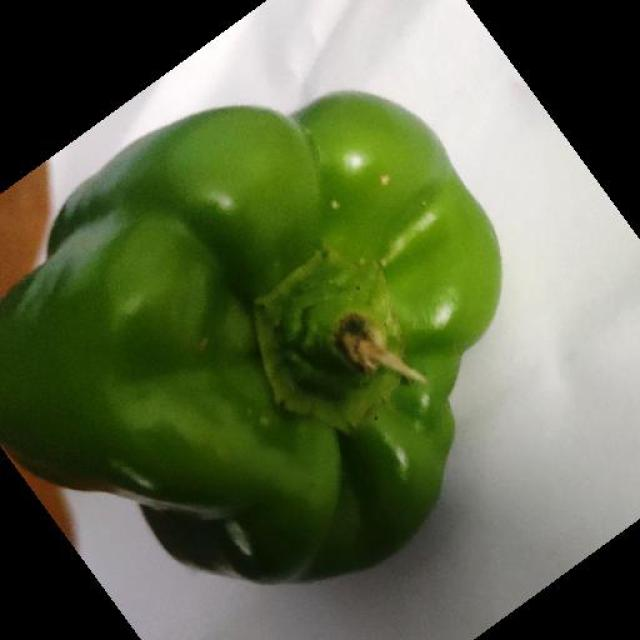Fresh_Capsicum: (55, 89, 455, 573)
